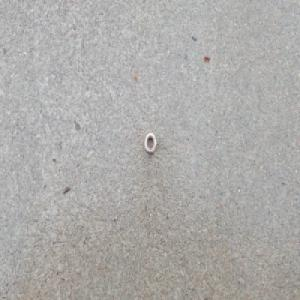Nut: (143, 131, 157, 155)
